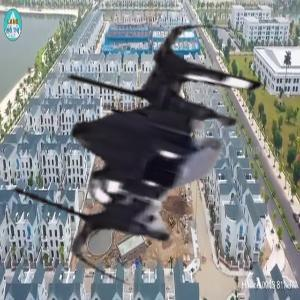drone: (4, 2, 300, 298)
